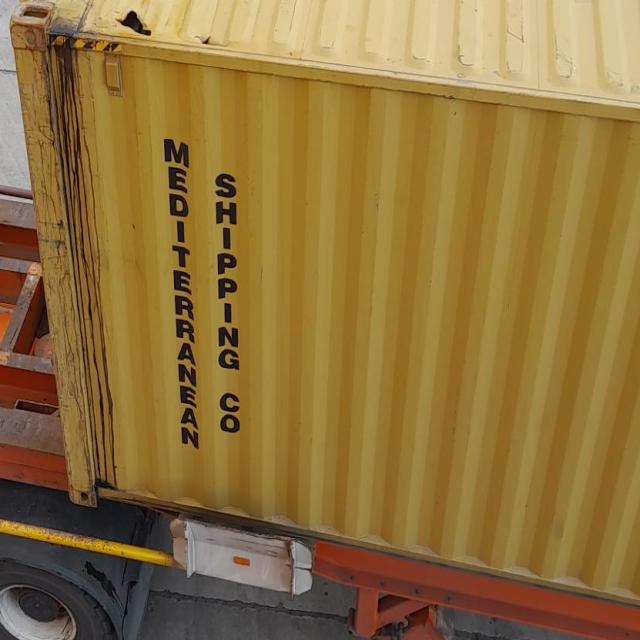hole: (115, 9, 157, 41), (194, 36, 230, 50)
